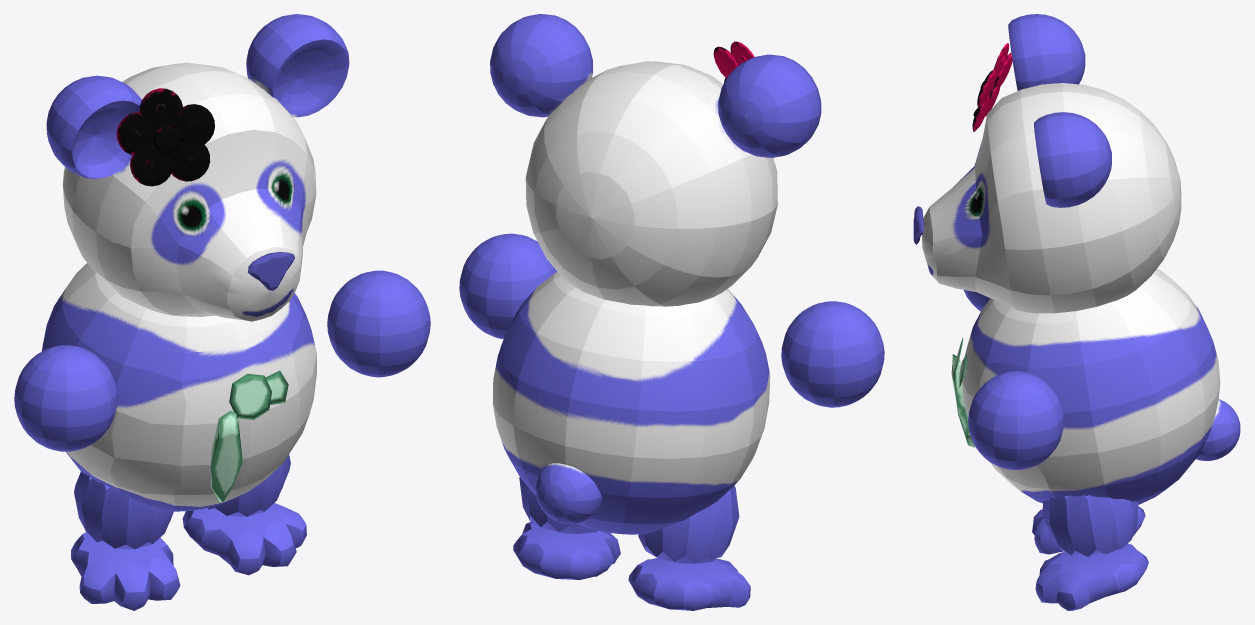
Rendered from panda.glb.
3 views of the same model, side by side, from view 1: azimuth 30°, elevation 25°; view 2: azimuth 150°, elevation 25°; view 3: azimuth 270°, elevation 25° (orthographic). The views are drawn at different scales.
Visible parts, largest first — view 1: node_id5; view 2: node_id5; view 3: node_id5.
Boxes of the visible parts, x1,y1,x2,y2 form: node_id5: (14,14,430,610); node_id5: (459,14,884,610); node_id5: (913,14,1240,610).
Bounding box in the file's own units: 0.3512 × 0.4466 × 0.2627.
1 material, 1 textured.
